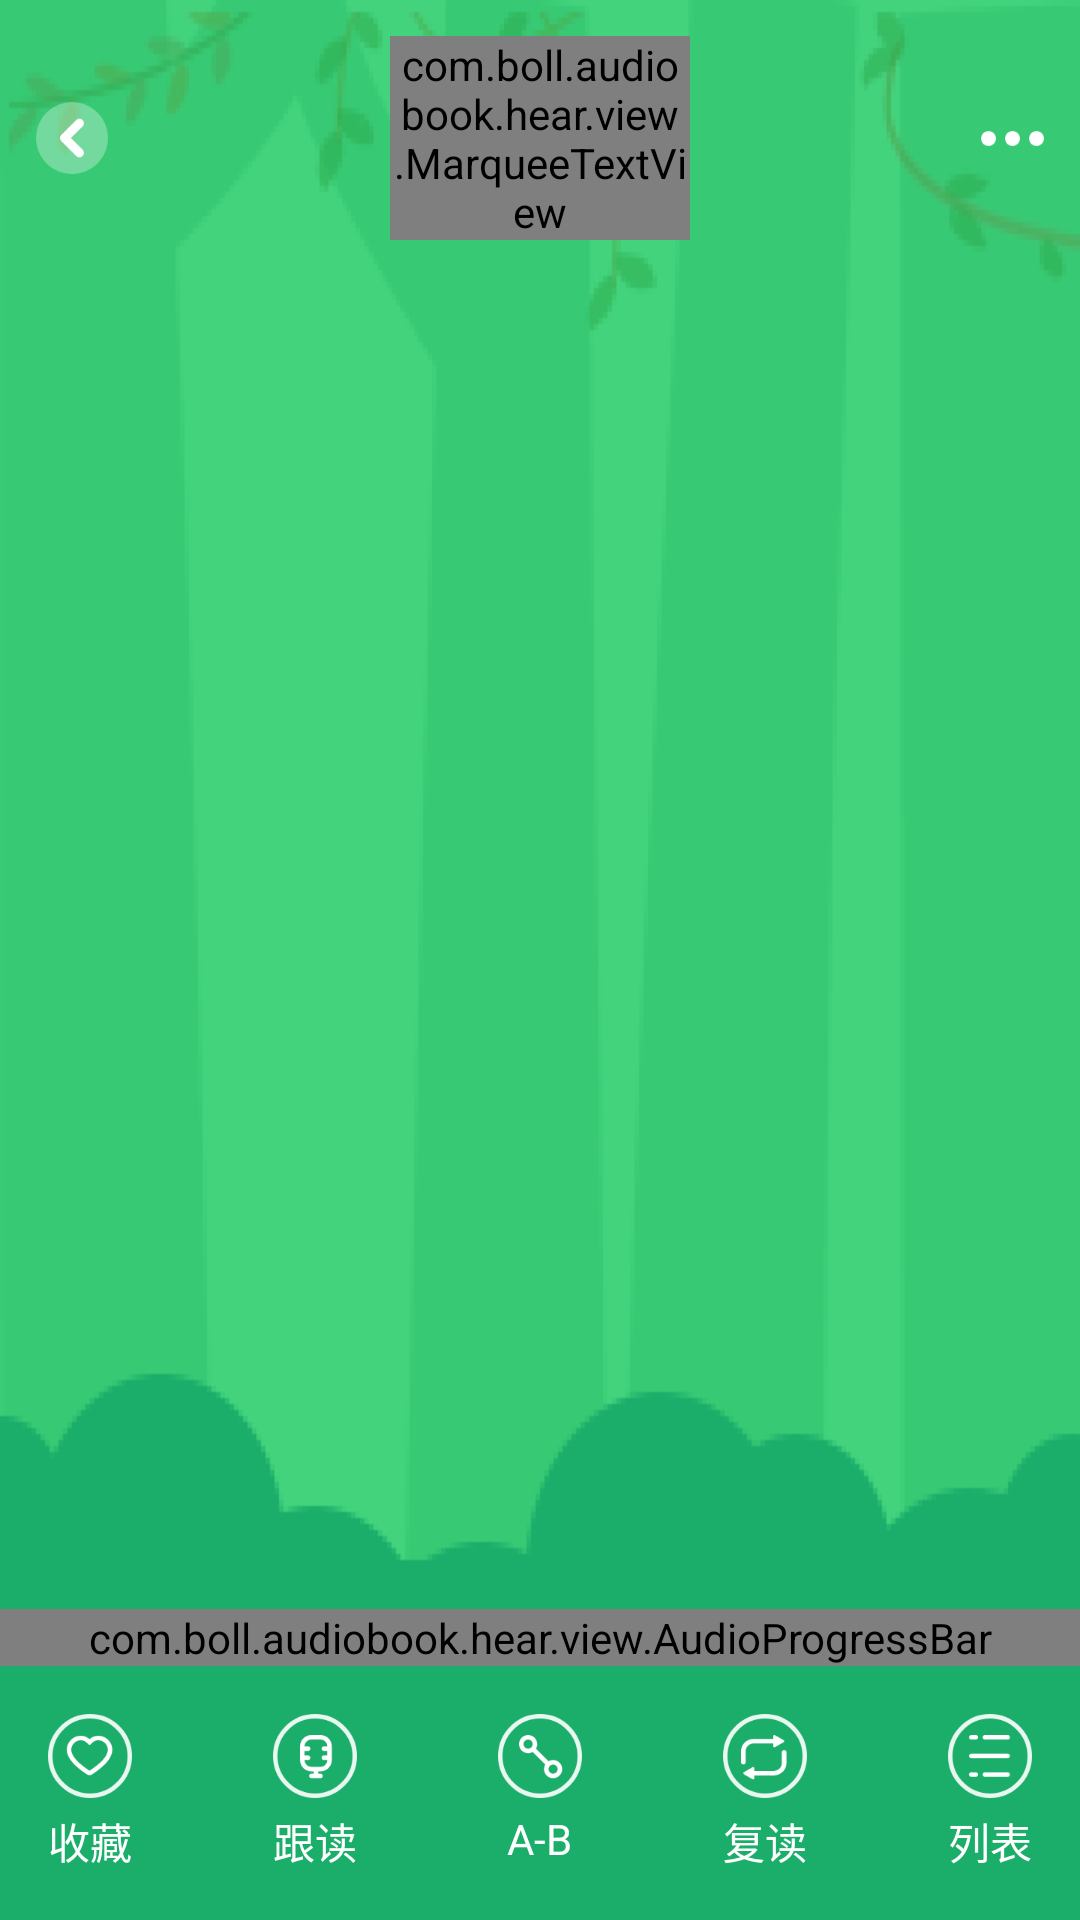

Icons on this 1080*1920 Android screen, each with its box as [x1,y1,x2,y2]:
back: [36,102,108,174]
setting: [981,131,1044,146]
single: [723,1714,807,1798]
